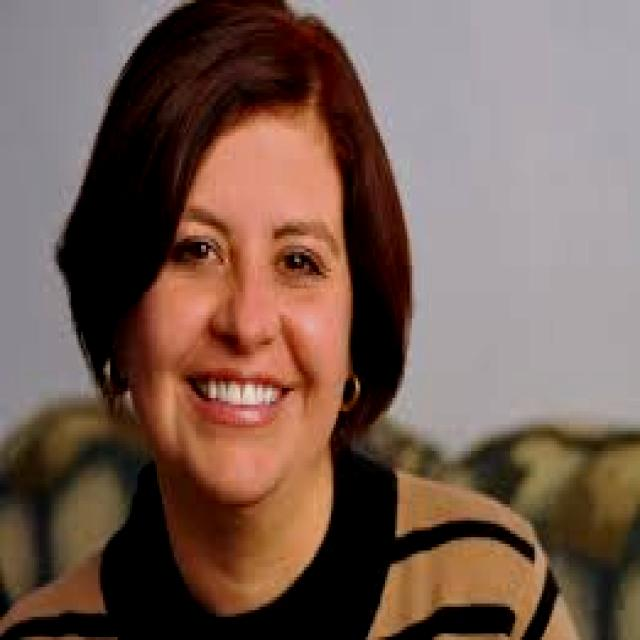normal_face: (118, 66, 357, 504)
